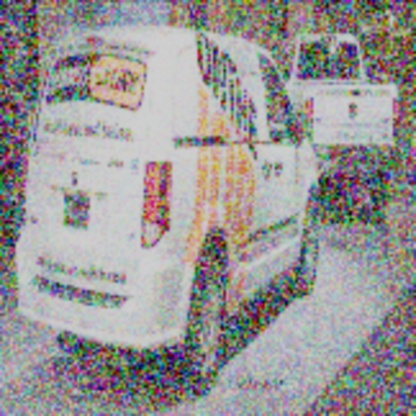Vehicle: (17, 27, 319, 397)
